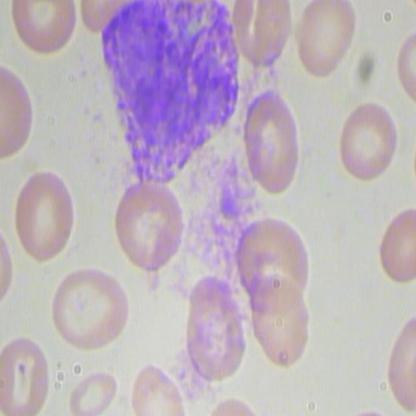RBC: (49, 260, 132, 357), (111, 178, 192, 272), (181, 270, 246, 383), (335, 94, 407, 185), (242, 91, 305, 195), (249, 269, 311, 373), (10, 169, 77, 263), (291, 1, 359, 79), (231, 1, 295, 73), (1, 332, 54, 415), (5, 1, 80, 56), (130, 356, 187, 415), (377, 201, 415, 287)
